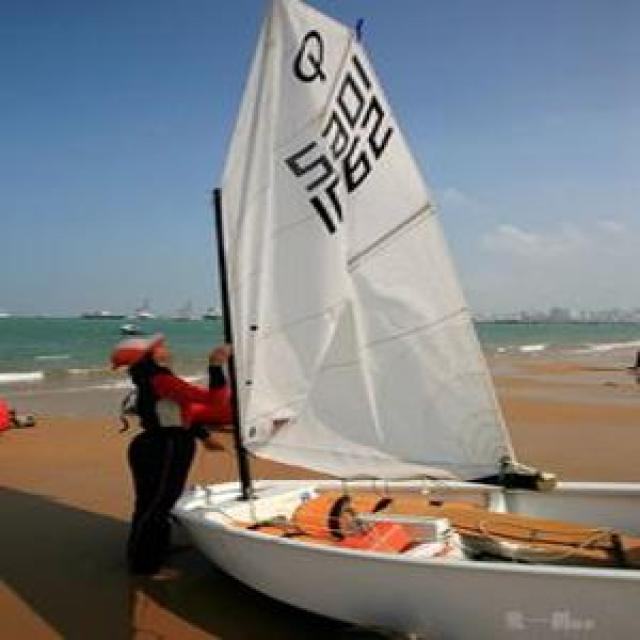sailboat: (162, 0, 640, 640)
